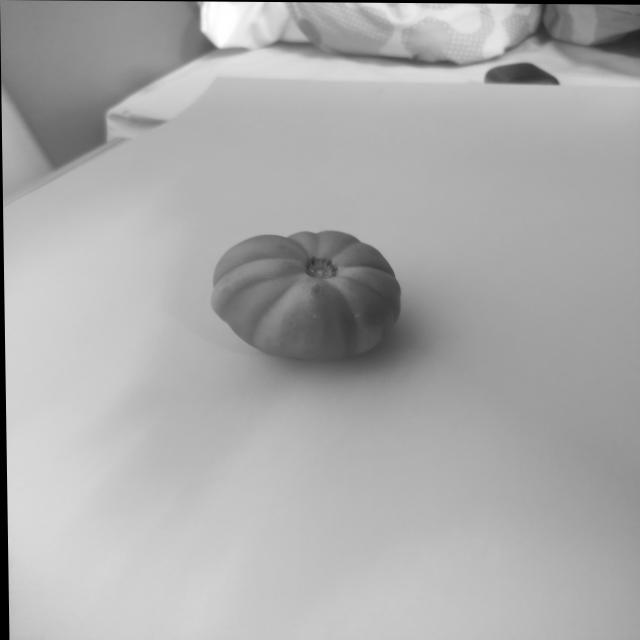yesil: (204, 228, 430, 364)
